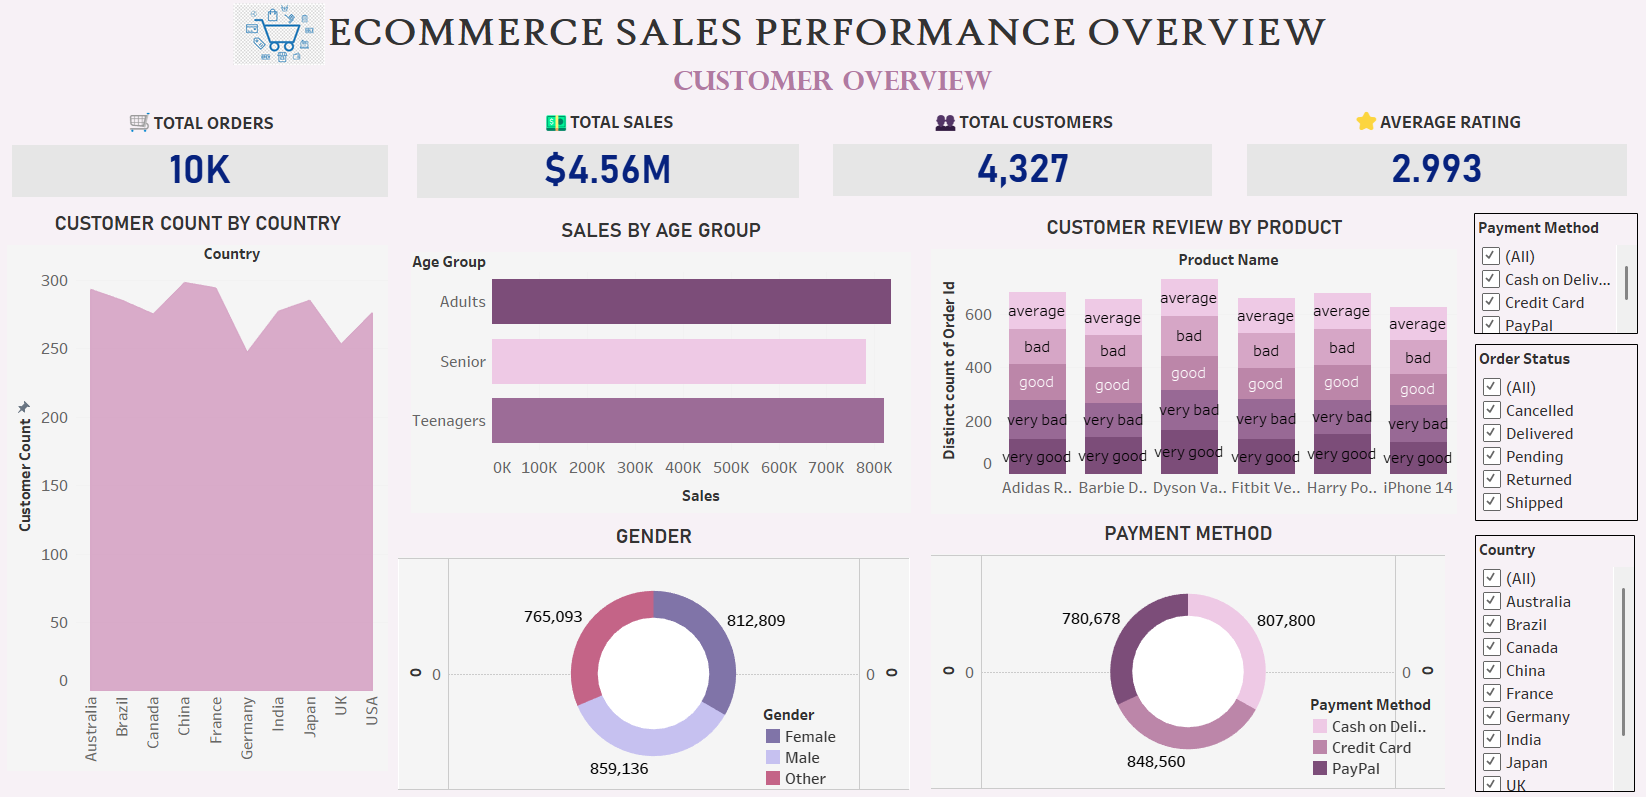

Layout of this report page (visuals, bound fields, positions):
{"tool":"tableau","page":{"name":"CUSTOMER DASHBOARD","canvas":[1000,1000],"units":"permille","ordinal":0},"visuals":[{"type":"worksheet","title":"Title","mark":"Automatic","box":[3,10,993.5,67.4]},{"type":"worksheet","title":"SUBTITLE2","mark":"Automatic","box":[6.6,78.7,993.4,69.9]},{"type":"worksheet","title":"TOTAL SALES","mark":"Automatic","box":[252.3,131.1,230.5,119.9]},{"type":"worksheet","title":"TOTAL CUSTOMERS","mark":"Automatic","box":[503.3,131.1,228.7,117.4]},{"type":"worksheet","title":"AVERAGE RATING","mark":"Automatic","box":[753.2,131.1,229.3,117.4]},{"type":"worksheet","title":"TOTAL ORDERS","mark":"Automatic","box":[7.9,132.3,226.9,117.4]},{"type":"worksheet","title":"CUSTOMER COUNT BY COUNTRY","mark":"Area","rows":["CUSTOMER_ID"],"cols":["COUNTRY"],"box":[4.8,265.9,229.9,700.4]},{"type":"worksheet","title":"SALES BY AGE GROUP","mark":"Automatic","rows":["AGE_GROUP"],"cols":["SALES"],"box":[248.6,274.7,301.8,369.5]},{"type":"filter","title":"GENDER","param":"[federated.0afmxs11m9kbcm1593nq411l45ka].[none:PAYMENT_METHOD:nk]","box":[891.4,285.9,99,151.1]},{"type":"worksheet","title":"CUSTOMER REVIEW","mark":"Automatic","rows":["ORDER_ID"],"cols":["PRODUCT_NAME"],"box":[562.5,302.1,317.4,343.3]},{"type":"filter","title":"PAYMENT METHOD","param":"[federated.0afmxs11m9kbcm1593nq411l45ka].[none:ORDER_STATUS:nk]","box":[890.8,446.9,98.4,207.2]},{"type":"worksheet","title":"PAYMENT METHOD","mark":"Pie","rows":["Calculation_2941132097290649621","Calculation_2941132097290670103"],"box":[562.5,652.9,310.8,335.8]},{"type":"worksheet","title":"GENDER","mark":"Pie","rows":["Calculation_2941132097289117709","Calculation_2941132097289129999"],"box":[240.8,656.7,309,333.3]},{"type":"filter","title":"PAYMENT METHOD","param":"[federated.0afmxs11m9kbcm1593nq411l45ka].[none:COUNTRY:nk]","box":[890.8,671.7,96.6,320.9]},{"type":"legend","title":"PAYMENT METHOD","param":"[federated.0afmxs11m9kbcm1593nq411l45ka].[none:PAYMENT_METHOD:nk]","box":[791.2,870.2,74.8,106.1]},{"type":"legend","title":"GENDER","param":"[federated.0afmxs11m9kbcm1593nq411l45ka].[none:GENDER:nk]","box":[461.1,882.6,84.5,106.1]}]}

Visuals, with their boxes on the dashboard's canvas, which has no fixed pixel size, in thousandths of its width and height (x1, y1, x2, y2). These are canvas units, not pixel positions in the 1646x797 screenshot, which may show the page scaled, cropped or inside an application window:
"Title" worksheet: detection(3, 10, 996, 77)
"SUBTITLE2" worksheet: detection(7, 79, 1000, 149)
"TOTAL SALES" worksheet: detection(252, 131, 483, 251)
"TOTAL CUSTOMERS" worksheet: detection(503, 131, 732, 248)
"AVERAGE RATING" worksheet: detection(753, 131, 982, 248)
"TOTAL ORDERS" worksheet: detection(8, 132, 235, 250)
"CUSTOMER COUNT BY COUNTRY" worksheet (Area marks): detection(5, 266, 235, 966)
"SALES BY AGE GROUP" worksheet: detection(249, 275, 550, 644)
"GENDER" filter: detection(891, 286, 990, 437)
"CUSTOMER REVIEW" worksheet: detection(562, 302, 880, 645)
"PAYMENT METHOD" filter: detection(891, 447, 989, 654)
"PAYMENT METHOD" worksheet (Pie marks): detection(562, 653, 873, 989)
"GENDER" worksheet (Pie marks): detection(241, 657, 550, 990)
"PAYMENT METHOD" filter: detection(891, 672, 987, 993)
"PAYMENT METHOD" legend: detection(791, 870, 866, 976)
"GENDER" legend: detection(461, 883, 546, 989)
